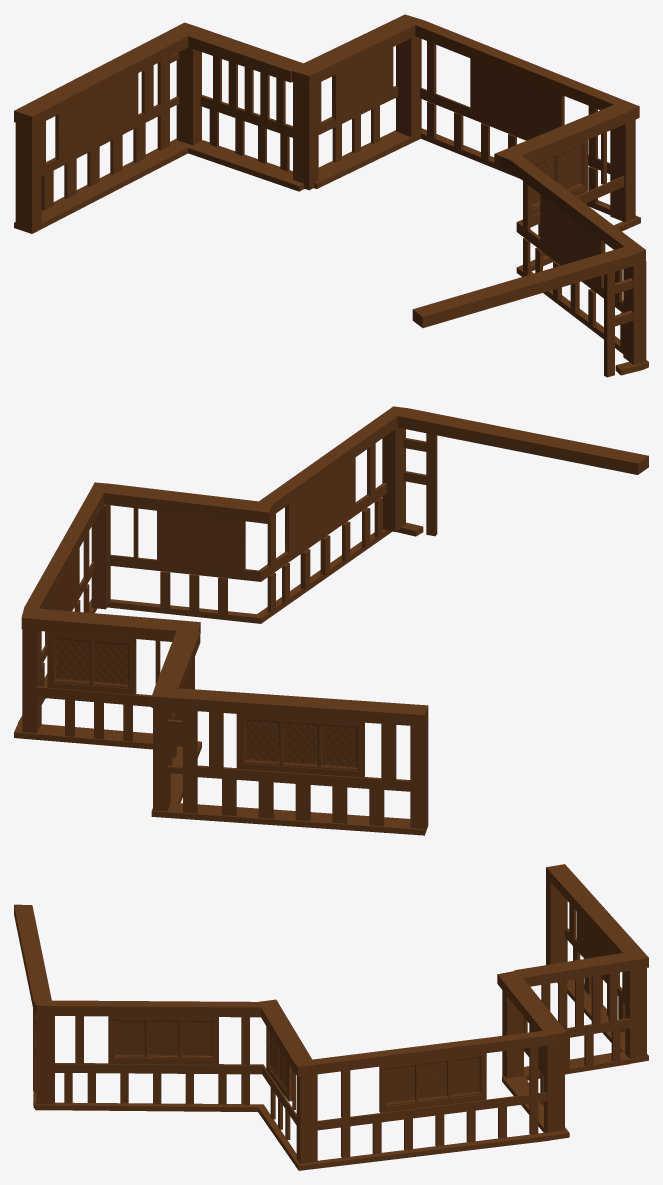
File: FairyTale222.gltf
3 views of the same model, one above another, from view 1: azimuth 30°, elevation 25°; view 2: azimuth 150°, elevation 25°; view 3: azimuth 270°, elevation 25° (orthographic). The views are drawn at different scales.
Visible parts, largest first — view 1: ManorMD_Wood_Beams; view 2: ManorMD_Wood_Beams; view 3: ManorMD_Wood_Beams.
Part boxes in pixels (<box>): ManorMD_Wood_Beams: <box>14,14,648,377</box>; ManorMD_Wood_Beams: <box>14,406,648,835</box>; ManorMD_Wood_Beams: <box>14,864,648,1170</box>.
Bounding box in the file's own units: 9.77 × 2.31 × 12.87.
